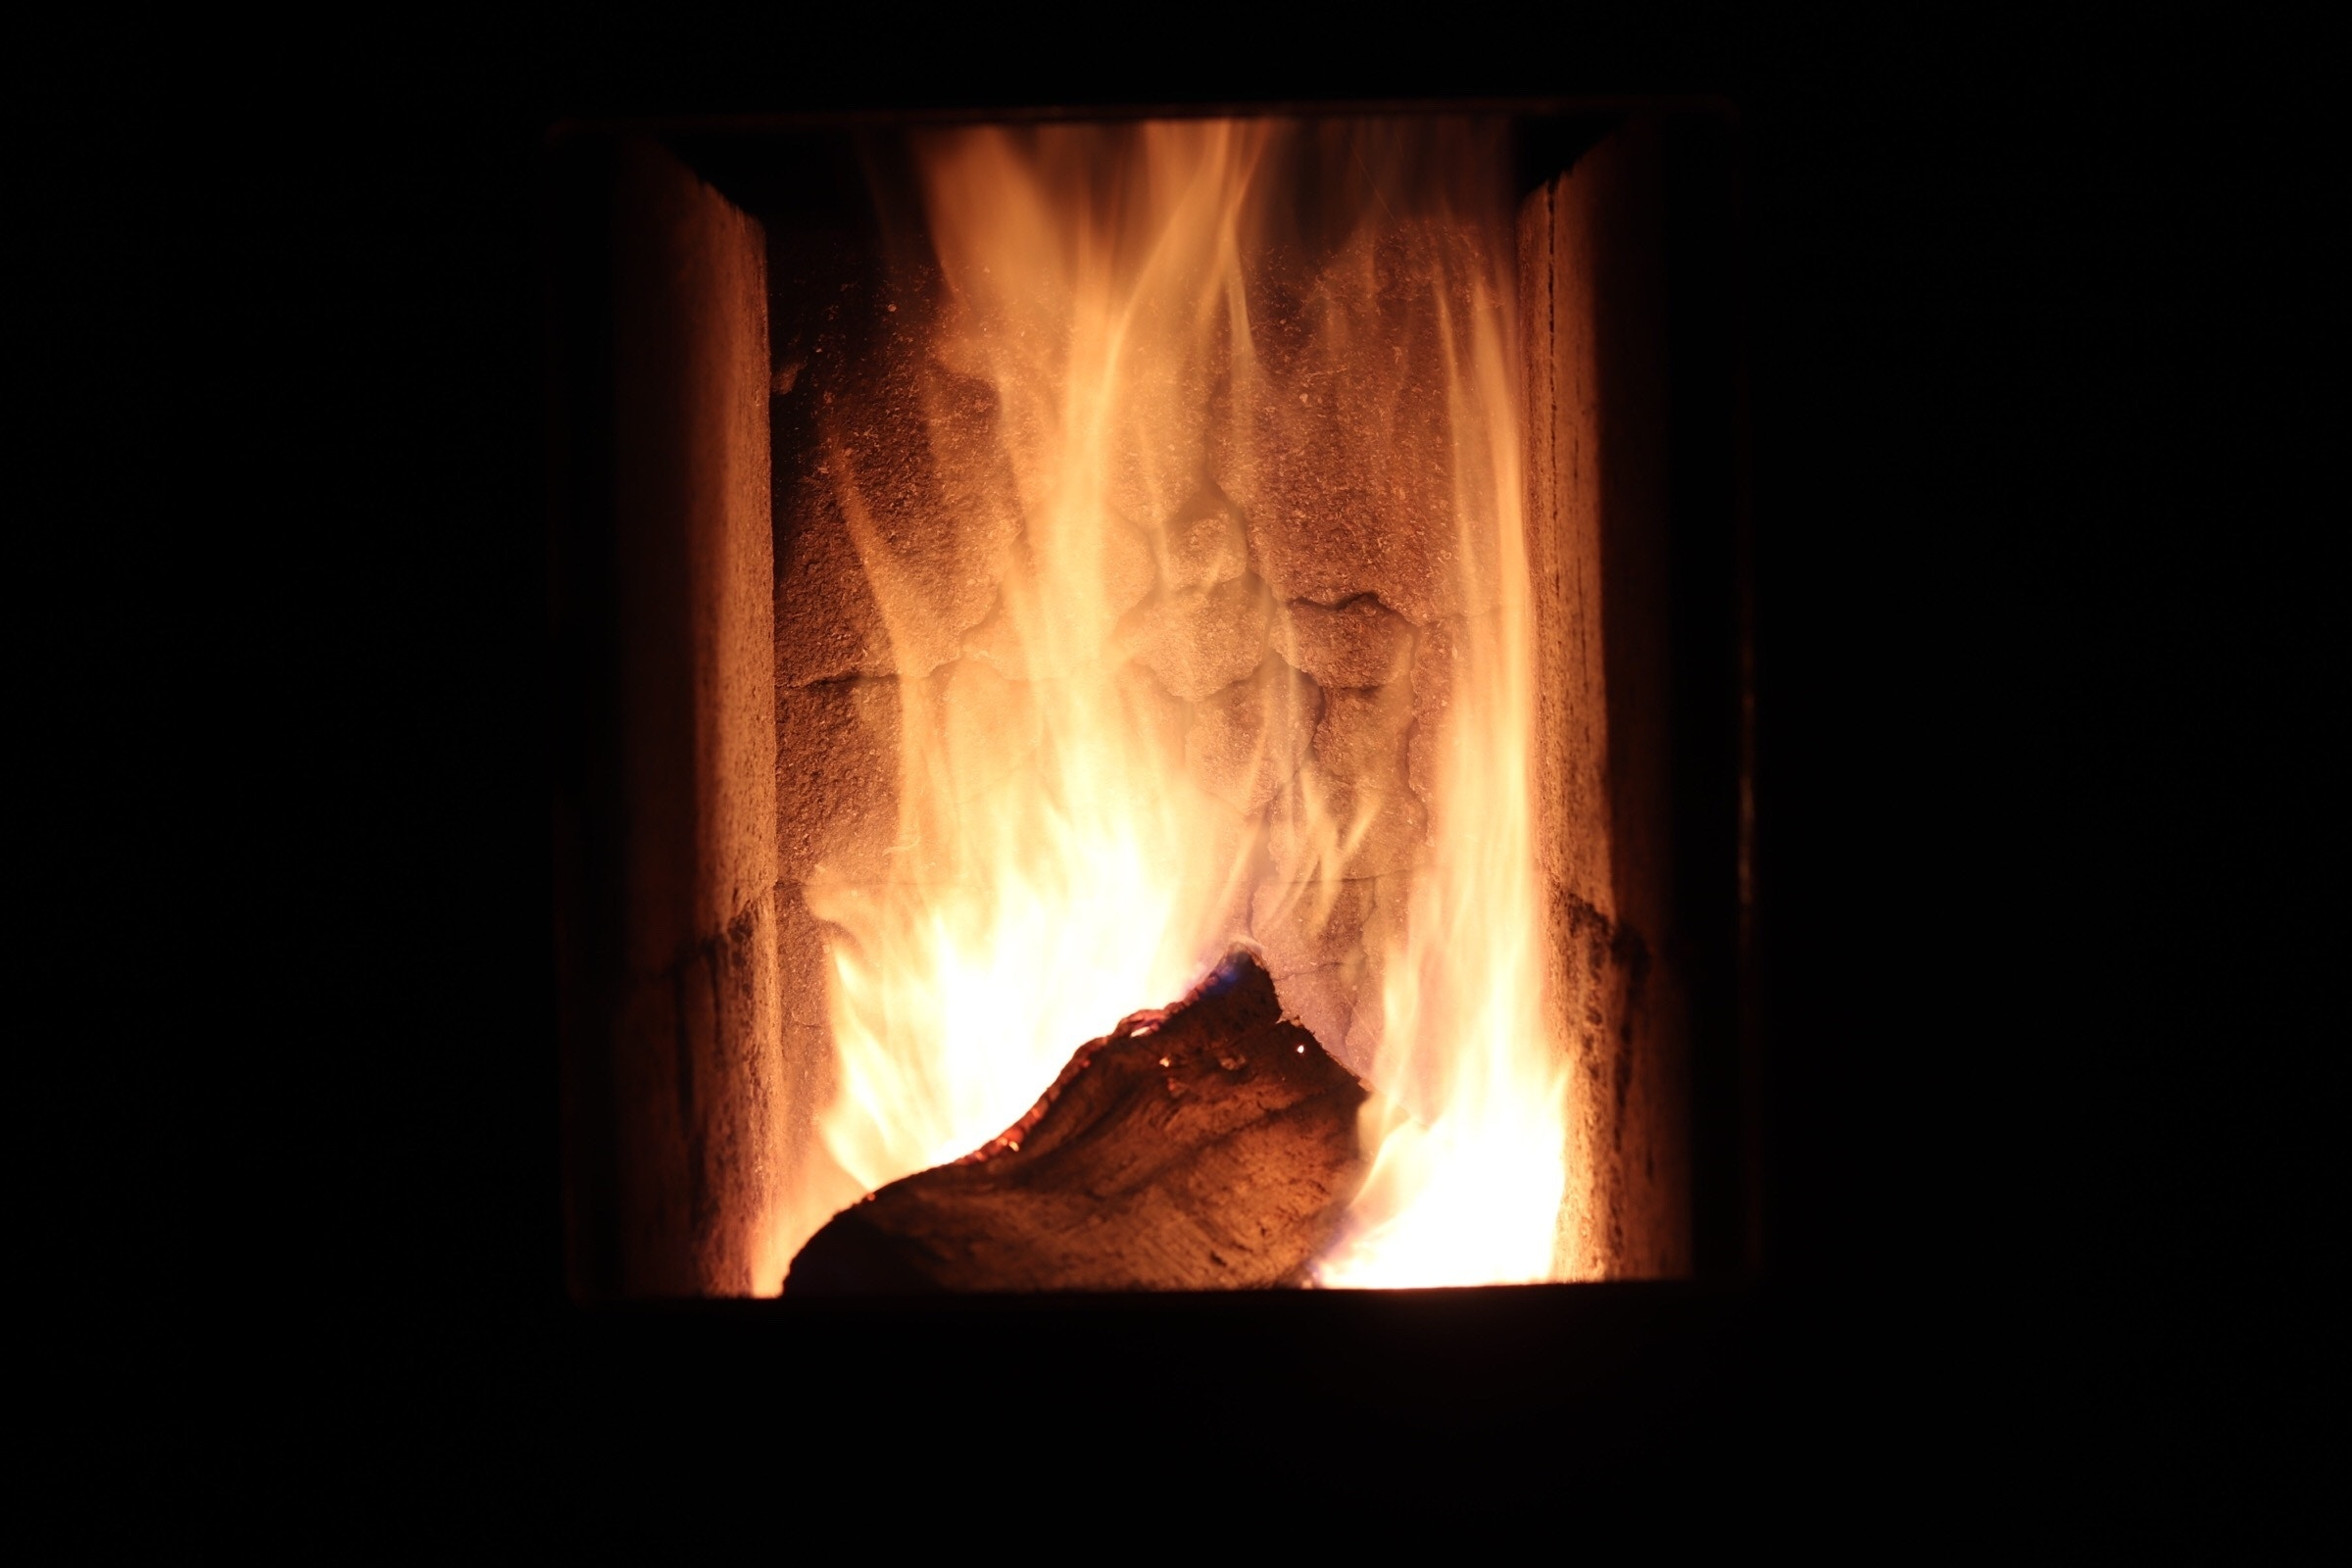fire: (816, 93, 1640, 1316)
